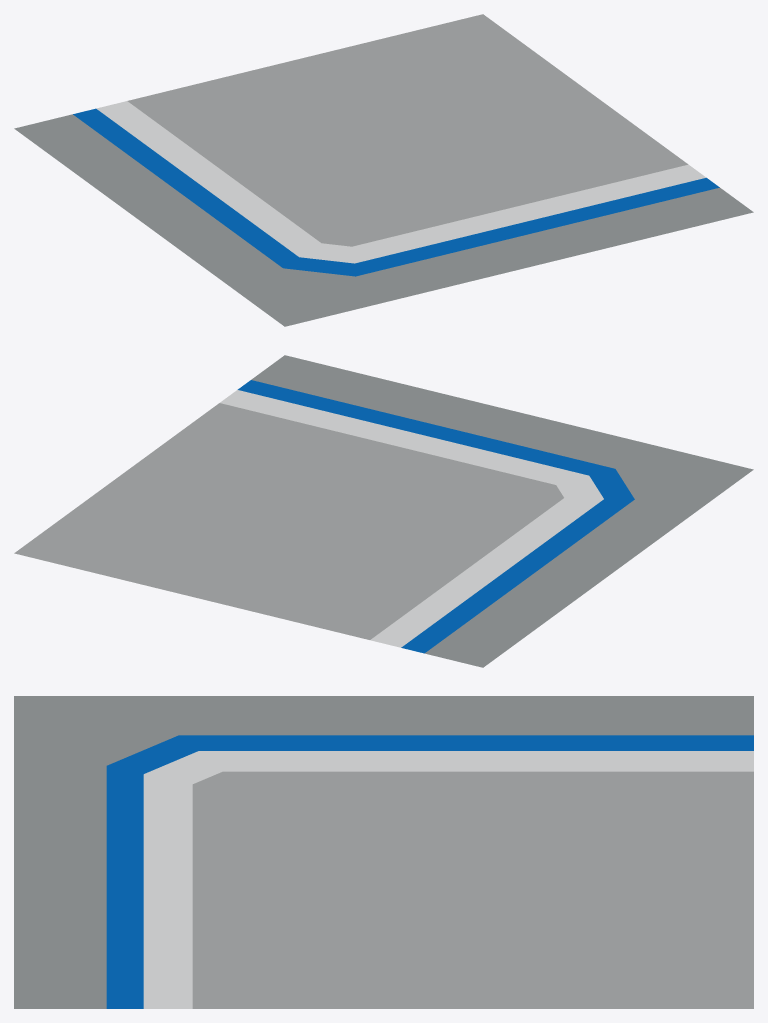
File: Ceiling_type_A_001.fbx
3 views of the same model, one above another, from view 1: azimuth 30°, elevation 25°; view 2: azimuth 150°, elevation 25°; view 3: azimuth 270°, elevation 25° (orthographic). The views are drawn at different scales.
Parts seen in each view (by area): view 1: Ceiling_type_A_001; view 2: Ceiling_type_A_001; view 3: Ceiling_type_A_001.
Part boxes in pixels (bbox=[...]): Ceiling_type_A_001: bbox=[14, 14, 753, 326]; Ceiling_type_A_001: bbox=[14, 355, 753, 667]; Ceiling_type_A_001: bbox=[14, 696, 753, 1008].
Bounding box in the file's own units: 400 × 400 × 4.55.
